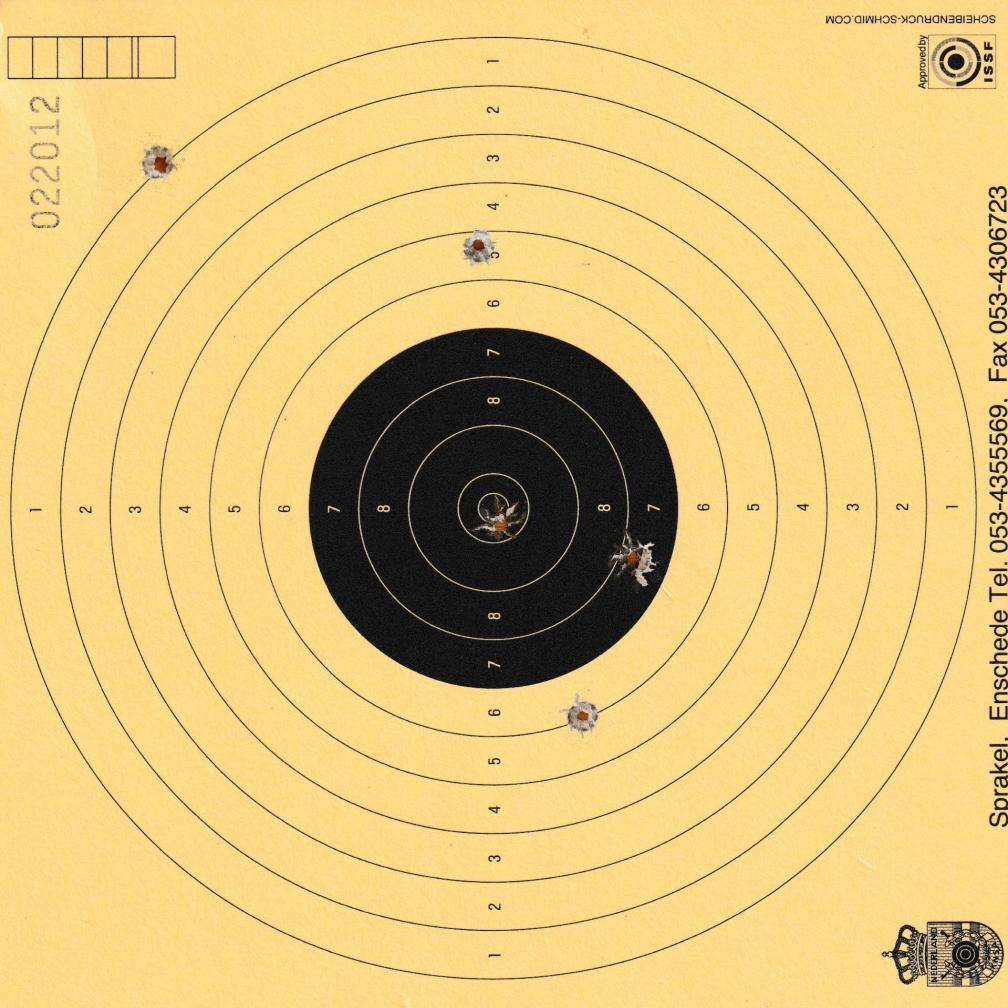1: (136, 142, 182, 184)
10: (480, 504, 522, 541)
5: (460, 229, 500, 267)
6: (562, 700, 608, 738)
8: (618, 540, 661, 584)
Target: (11, 34, 980, 983)
black_contour: (306, 327, 679, 688)
